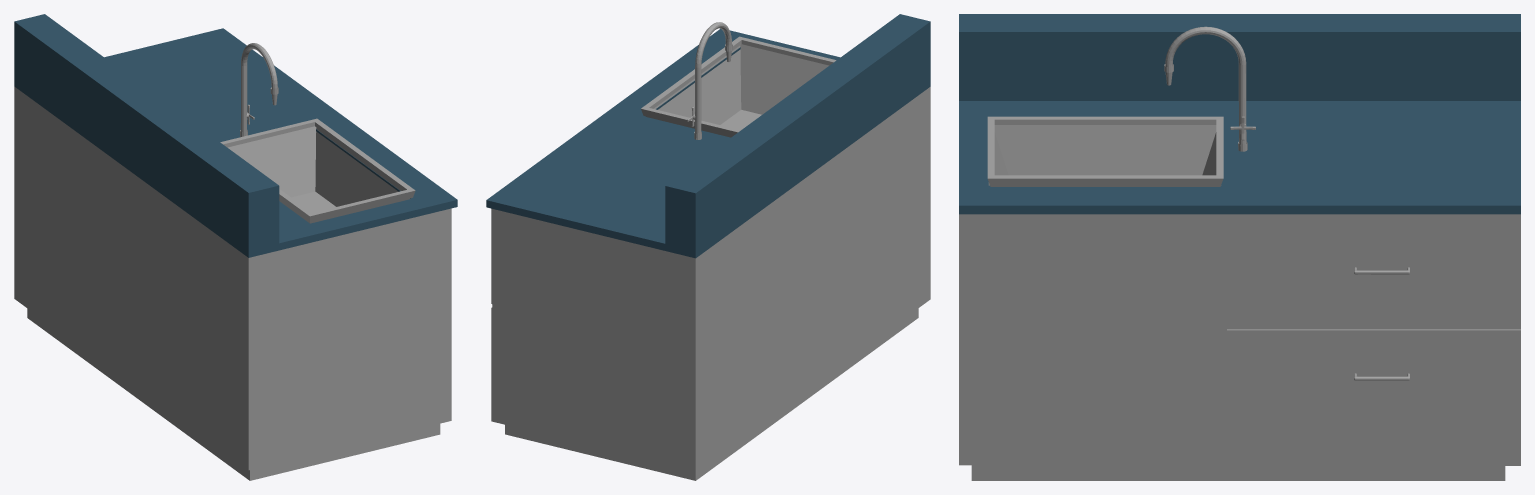
The model's file is sink.glb.
The picture shows the model from 3 angles, left to right: view 1: azimuth 30°, elevation 25°; view 2: azimuth 150°, elevation 25°; view 3: azimuth 270°, elevation 25°; orthographic projection. The views are drawn at different scales.
Parts seen in each view (by area): view 1: Cube, Cube.001, Cube.002, Torus.001; view 2: Cube, Cube.001, Cube.002, Torus.001; view 3: Cube, Cube.001, Cube.002, Torus.001.
Boxes of the visible parts, <box> form: Cube: <box>14,86,451,480</box>; Cube.001: <box>14,14,457,257</box>; Cube.002: <box>220,118,415,223</box>; Torus.001: <box>240,43,278,137</box>; Cube: <box>491,87,930,480</box>; Cube.001: <box>486,14,930,258</box>; Cube.002: <box>641,36,836,137</box>; Torus.001: <box>694,22,732,139</box>; Cube: <box>959,182,1520,480</box>; Cube.001: <box>959,14,1520,214</box>; Cube.002: <box>987,116,1223,186</box>; Torus.001: <box>1164,26,1247,151</box>.
Bounding box in the file's own units: 1.58 × 2.39 × 3.
